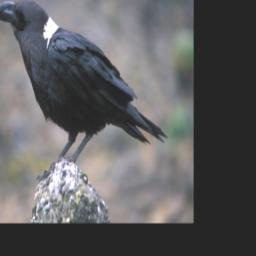Crow: (0, 0, 168, 184)
